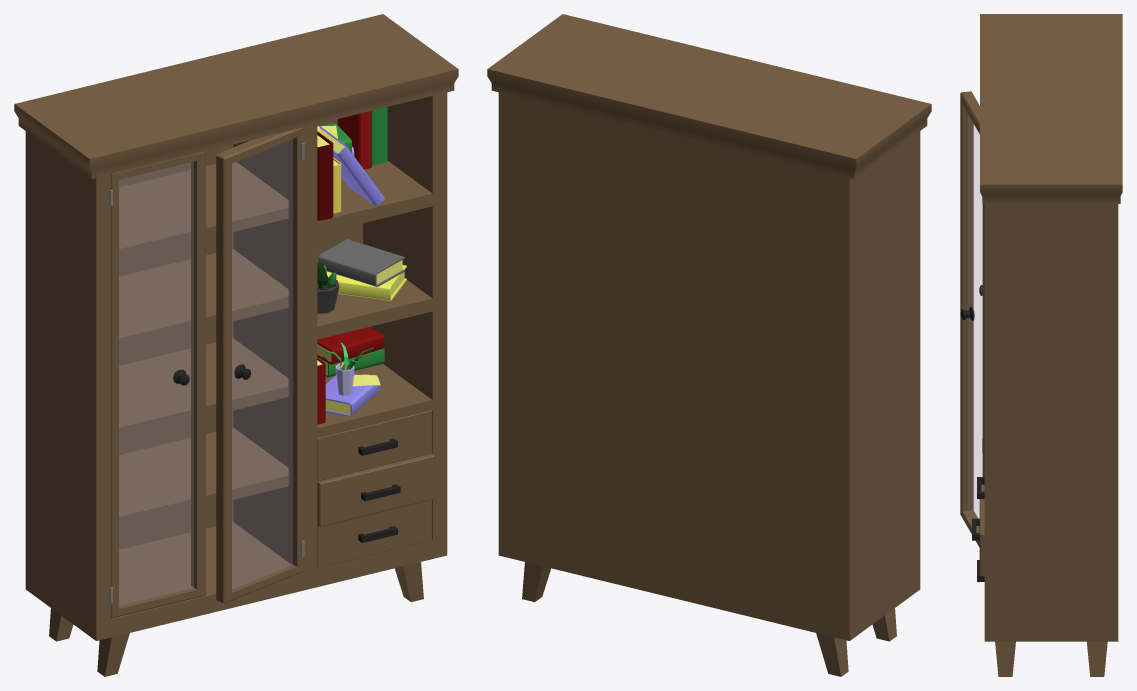
Rendered from low_poly_closet_with_books_and_plants.glb.
The picture shows the model from 3 angles, left to right: view 1: azimuth 30°, elevation 25°; view 2: azimuth 150°, elevation 25°; view 3: azimuth 270°, elevation 25°; orthographic projection. The views are drawn at different scales.
Parts seen in each view (by area): view 1: Bottom; view 2: Bottom; view 3: Bottom.
Boxes of the visible parts, x1,y1,x2,y2 form: Bottom: (14, 14, 458, 676); Bottom: (487, 14, 931, 676); Bottom: (960, 14, 1122, 676).
Size of the model in its own units: 6.04 by 8.31 by 2.43.
2 materials, 2 textured.
